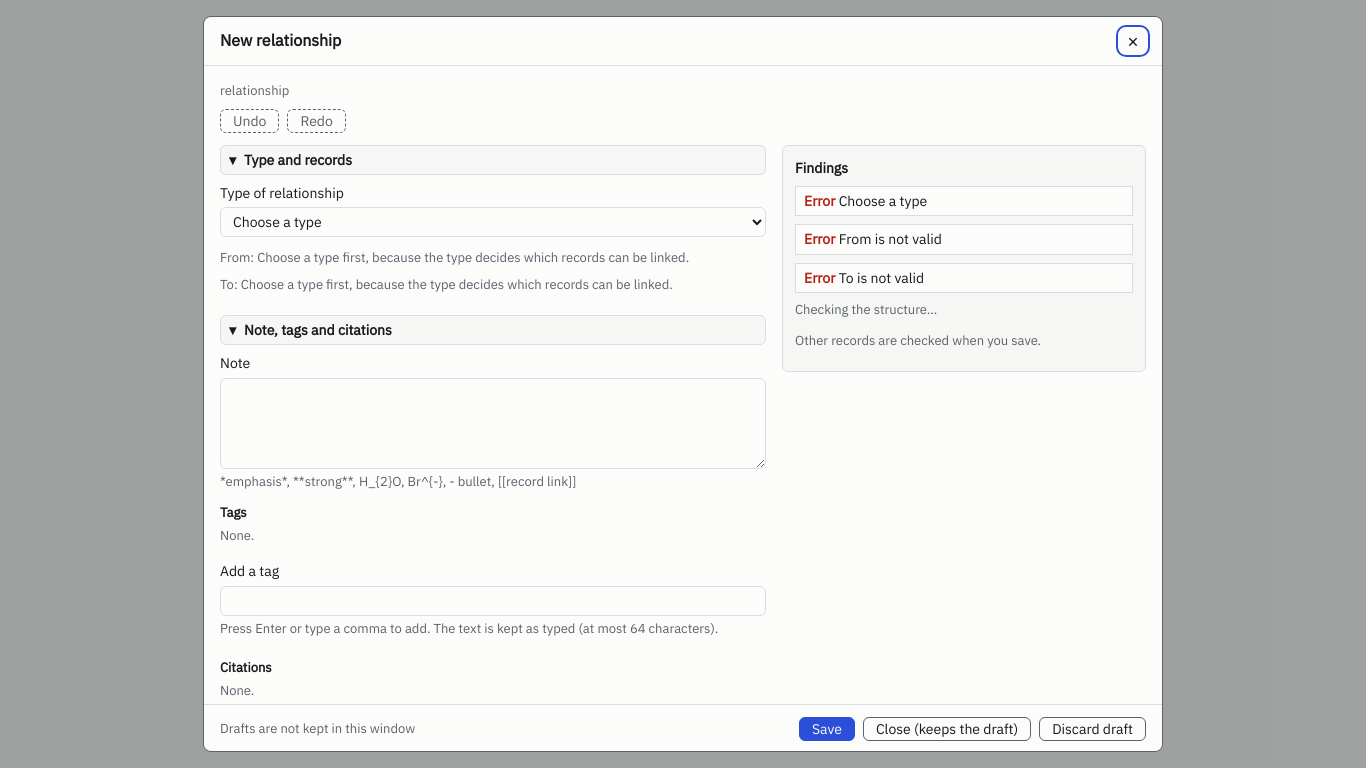
Test case: the title › is "New relationship" until the type and both ends are chosen, then names both
Expected: the heading "New relationship" is shown, [220,29,341,53]
Select "Prerequisite of" in the dropdown labelled "Type of relationship" at (493,222), box [220,207,766,237]
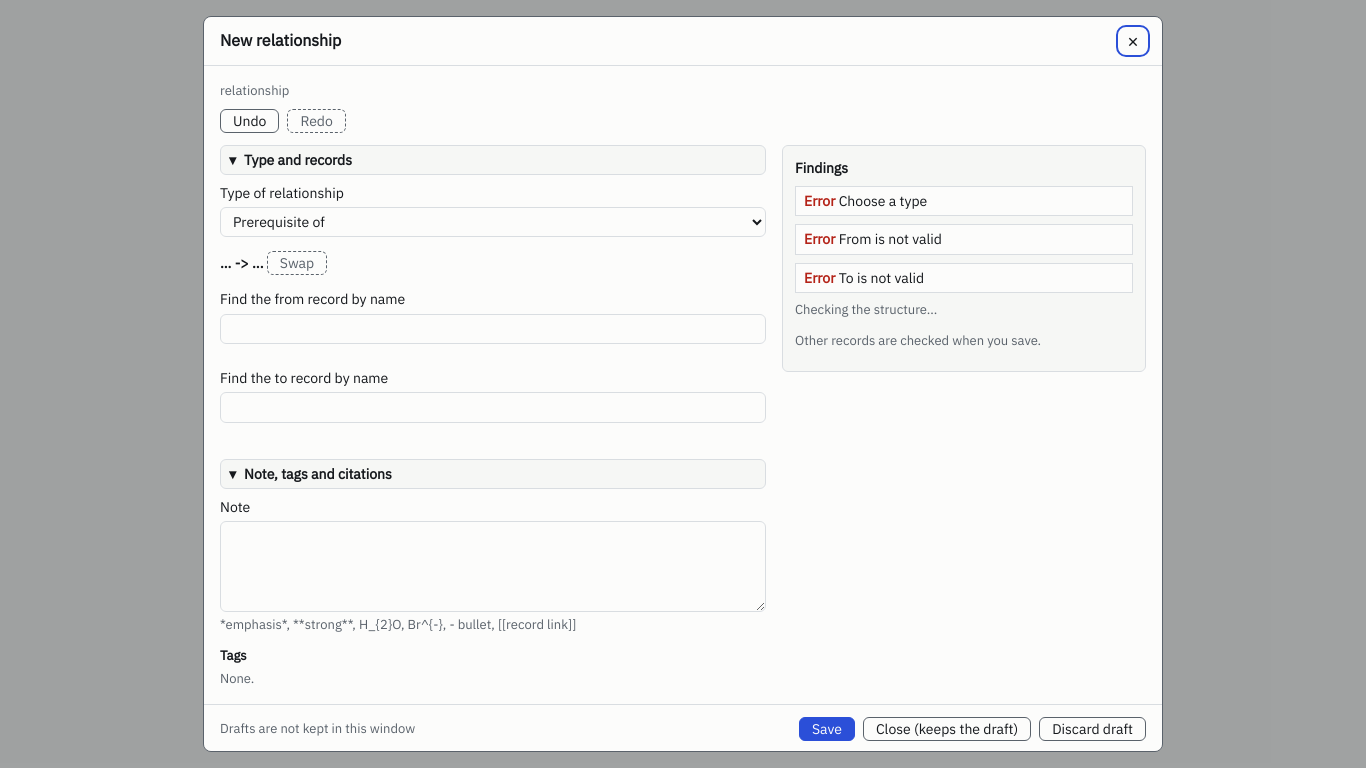
Type "Inductive" into the search field labelled "Find the from record by name" at (493,329), box [220,314,766,344]
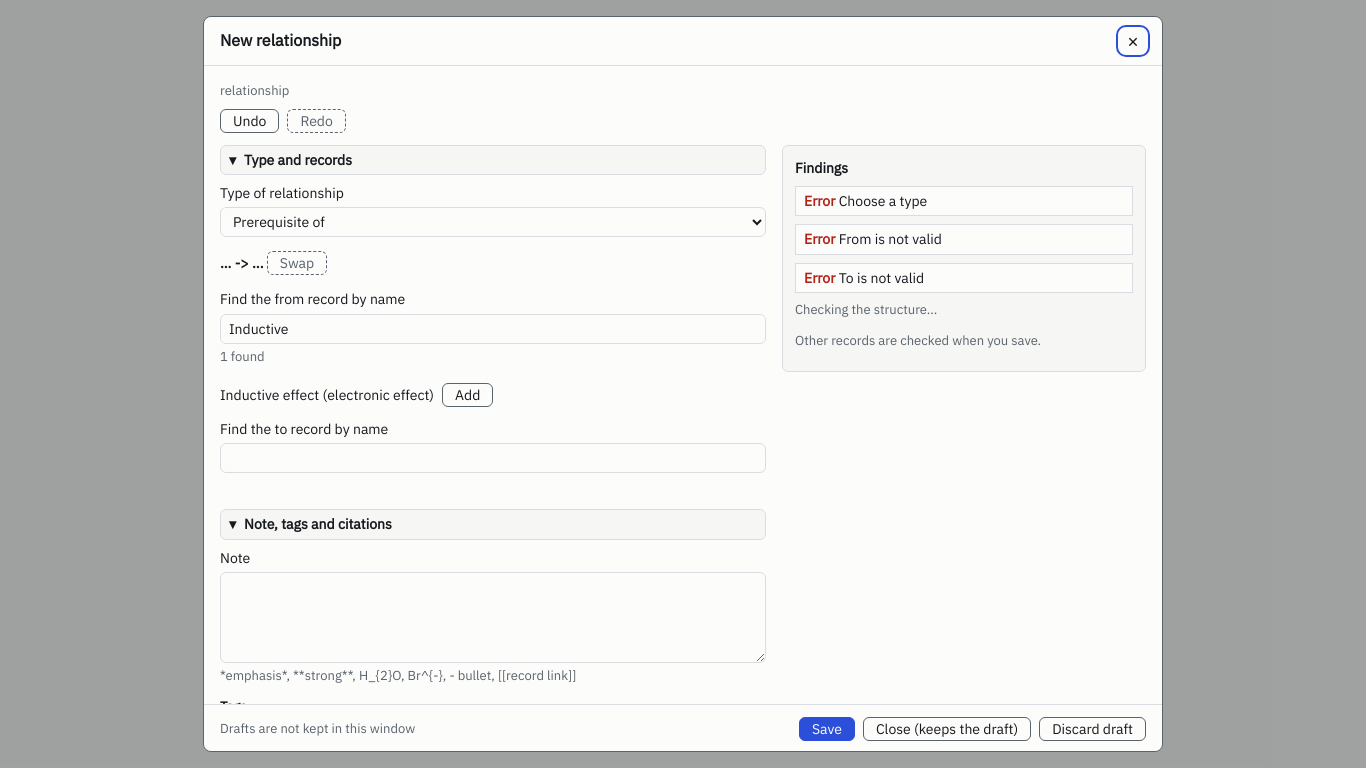
Click the button "Add" at (468,395), box [442,383,493,407]
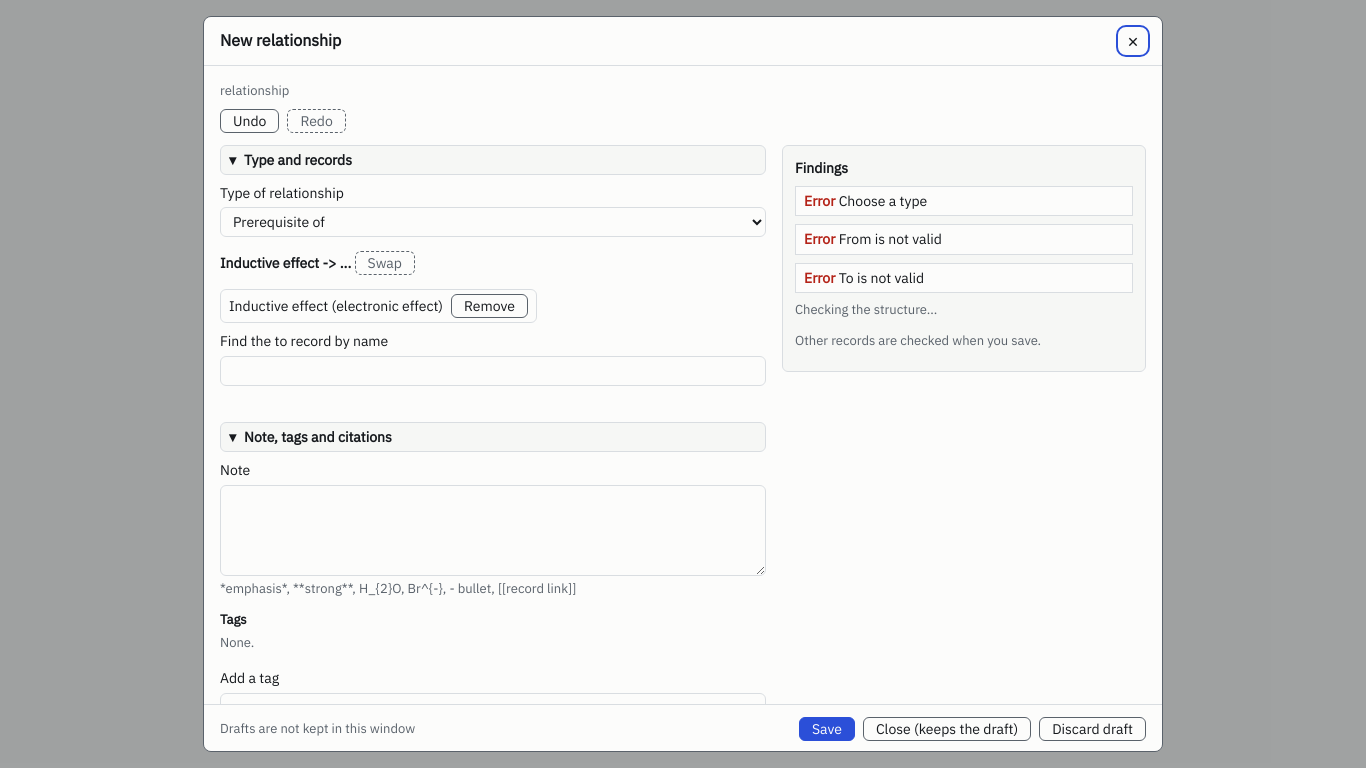
Expected: the heading "New relationship" is shown, [220,29,341,53]
Type "Markovnikov" into the search field labelled "Find the to record by name" at (493,371), box [220,356,766,386]
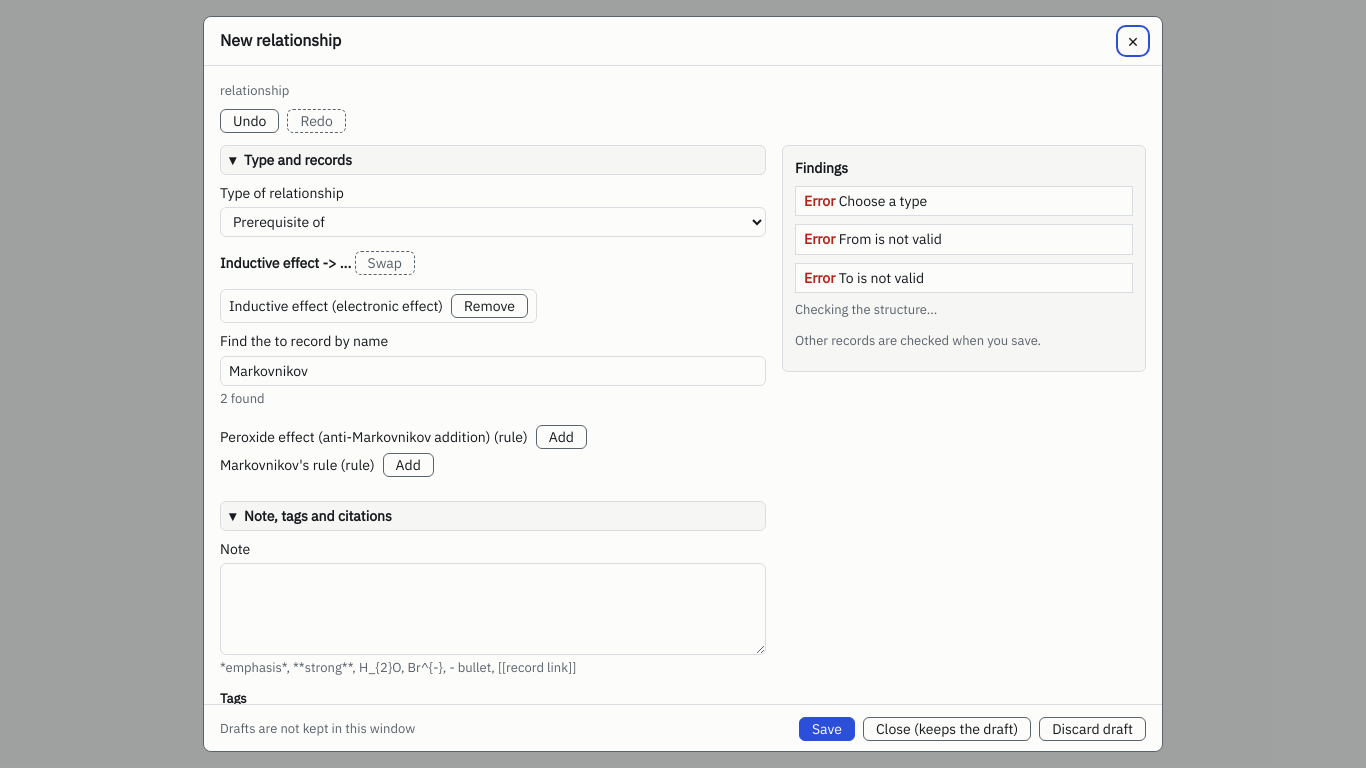
Click the button "Add" next to "Markovnikov's rule (rule)" at (408,465), box [383,453,434,477]
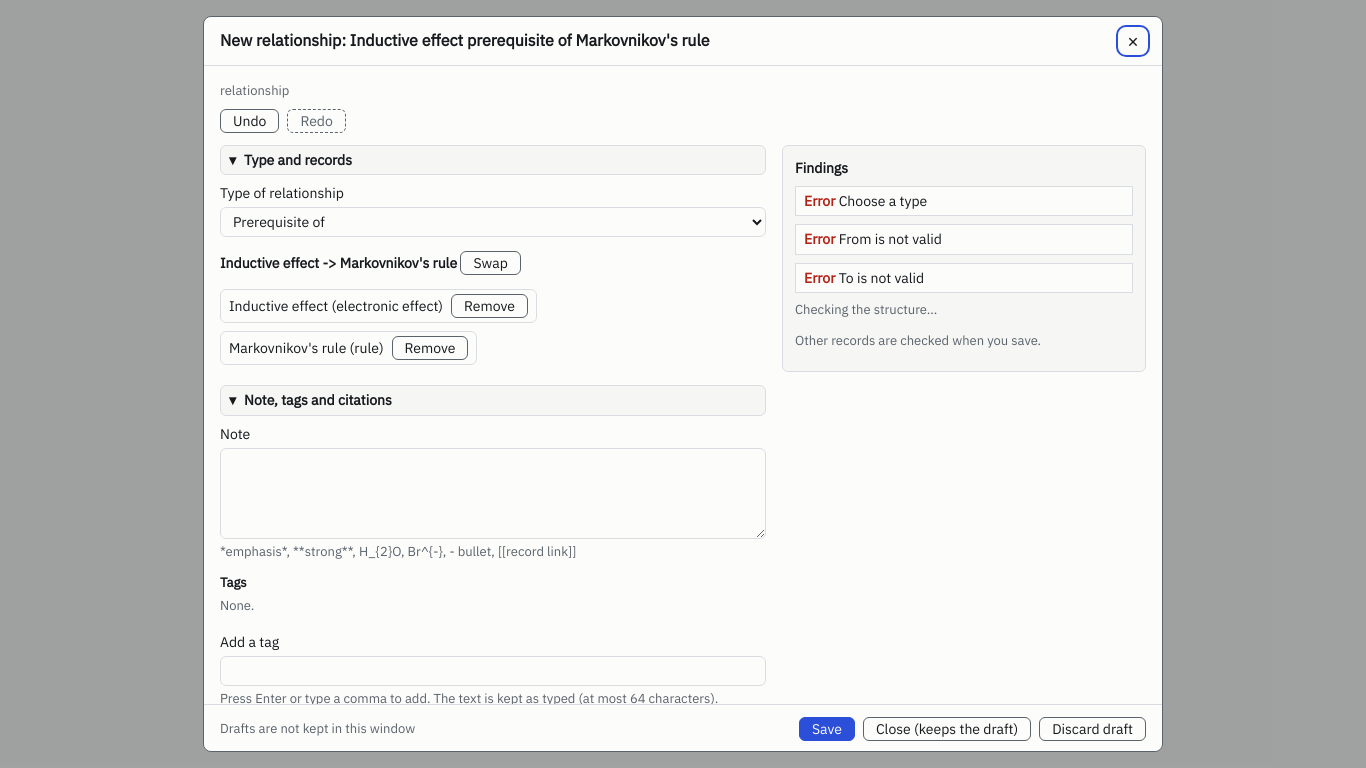
Result: the heading "New relationship: Inductive effect prerequisite of Markovnikov's rule" is shown at [220,29,710,53]
